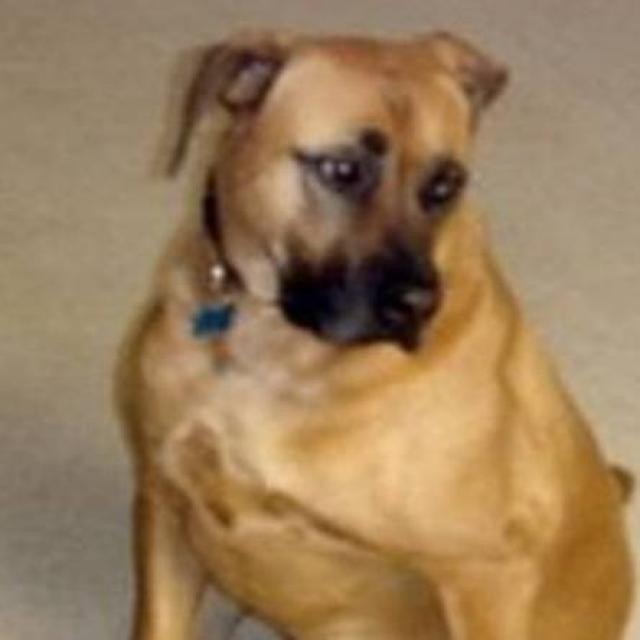sad: (88, 2, 622, 469)
